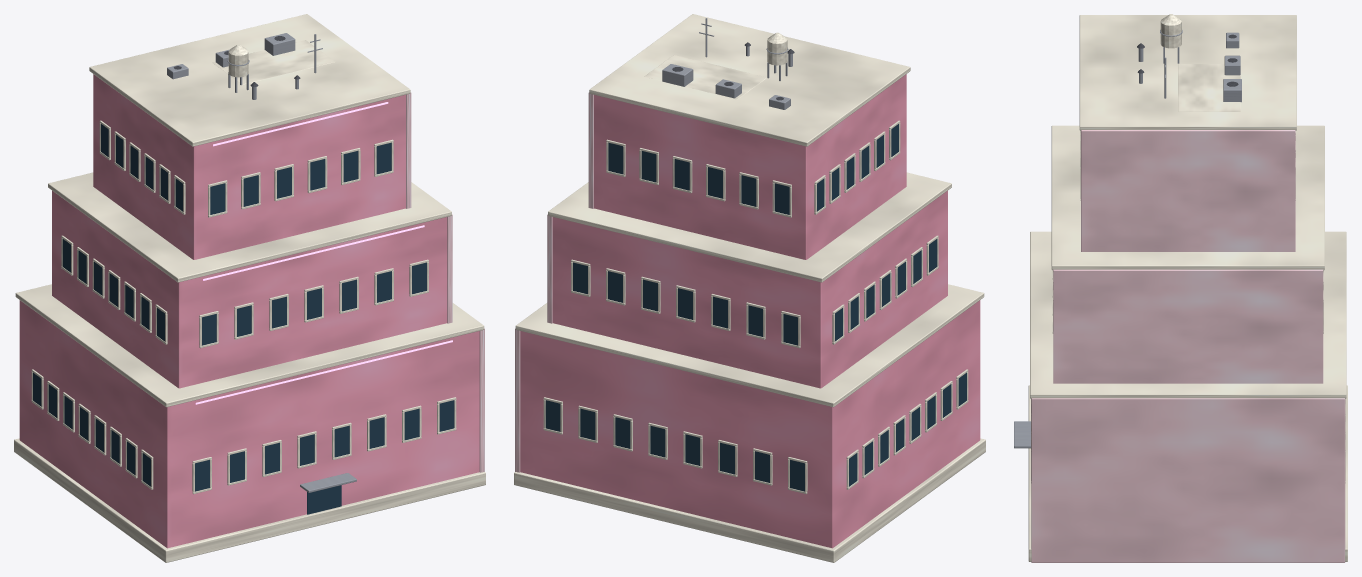
Rendered from bldg_pink_terrace.glb.
3 renders of one model, left to right at view 1: azimuth 30°, elevation 25°; view 2: azimuth 150°, elevation 25°; view 3: azimuth 270°, elevation 25°, orthographic. The views are drawn at different scales.
Parts seen in each view (by area): view 1: bldg_pink_terrace_band_0_wall, bldg_pink_terrace_band_1_wall, bldg_pink_terrace_band_2_wall, bldg_pink_terrace_band_2_cornice, bldg_pink_terrace_band_1_cornice, bldg_pink_terrace_band_0_cornice, bldg_pink_terrace_plinth, bldg_pink_terrace_roof_curb, bldg_pink_terrace_band_0_pilaster, bldg_pink_terrace_entrance, bldg_pink_terrace_band_2_pilaster, bldg_pink_terrace_band_0_neon (+2 smaller); view 2: bldg_pink_terrace_band_0_wall, bldg_pink_terrace_band_1_wall, bldg_pink_terrace_band_2_wall, bldg_pink_terrace_band_2_cornice, bldg_pink_terrace_band_1_cornice, bldg_pink_terrace_band_0_cornice, bldg_pink_terrace_plinth, bldg_pink_terrace_roof_curb, bldg_pink_terrace_band_0_pilaster, bldg_pink_terrace_band_2_pilaster, bldg_pink_terrace_band_1_pilaster; view 3: bldg_pink_terrace_band_0_pilaster, bldg_pink_terrace_band_1_pilaster, bldg_pink_terrace_band_2_pilaster, bldg_pink_terrace_band_2_cornice, bldg_pink_terrace_band_1_cornice, bldg_pink_terrace_band_0_cornice, bldg_pink_terrace_roof_curb, bldg_pink_terrace_plinth, bldg_pink_terrace_tank_a_barrel, bldg_pink_terrace_canopy.
Part boxes in pixels (left/top/right/bottom): bldg_pink_terrace_band_0_wall: left=19, top=300, right=479, bottom=548; bldg_pink_terrace_band_1_wall: left=52, top=190, right=447, bottom=388; bldg_pink_terrace_band_2_wall: left=93, top=74, right=405, bottom=259; bldg_pink_terrace_band_2_cornice: left=89, top=14, right=410, bottom=146; bldg_pink_terrace_band_1_cornice: left=48, top=172, right=451, bottom=282; bldg_pink_terrace_band_0_cornice: left=15, top=284, right=484, bottom=407; bldg_pink_terrace_plinth: left=14, top=438, right=485, bottom=562; bldg_pink_terrace_roof_curb: left=212, top=40, right=335, bottom=84; bldg_pink_terrace_band_0_pilaster: left=479, top=328, right=484, bottom=472; bldg_pink_terrace_entrance: left=307, top=485, right=341, bottom=514; bldg_pink_terrace_band_2_pilaster: left=406, top=92, right=411, bottom=208; bldg_pink_terrace_band_0_neon: left=195, top=340, right=452, bottom=404; bldg_pink_terrace_band_0_wall: left=520, top=300, right=980, bottom=548; bldg_pink_terrace_band_1_wall: left=552, top=190, right=947, bottom=388; bldg_pink_terrace_band_2_wall: left=594, top=74, right=906, bottom=259; bldg_pink_terrace_band_2_cornice: left=589, top=14, right=910, bottom=146; bldg_pink_terrace_band_1_cornice: left=548, top=172, right=951, bottom=282; bldg_pink_terrace_band_0_cornice: left=515, top=284, right=984, bottom=407; bldg_pink_terrace_plinth: left=514, top=438, right=985, bottom=562; bldg_pink_terrace_roof_curb: left=644, top=54, right=767, bottom=99; bldg_pink_terrace_band_0_pilaster: left=515, top=328, right=520, bottom=472; bldg_pink_terrace_band_2_pilaster: left=588, top=92, right=593, bottom=208; bldg_pink_terrace_band_1_pilaster: left=547, top=214, right=552, bottom=323; bldg_pink_terrace_band_0_pilaster: left=1031, top=398, right=1345, bottom=562; bldg_pink_terrace_band_1_pilaster: left=1053, top=269, right=1323, bottom=383; bldg_pink_terrace_band_2_pilaster: left=1081, top=130, right=1295, bottom=251; bldg_pink_terrace_band_2_cornice: left=1079, top=15, right=1296, bottom=130; bldg_pink_terrace_band_1_cornice: left=1051, top=125, right=1324, bottom=270; bldg_pink_terrace_band_0_cornice: left=1030, top=231, right=1346, bottom=398; bldg_pink_terrace_roof_curb: left=1178, top=64, right=1240, bottom=111; bldg_pink_terrace_plinth: left=1028, top=385, right=1347, bottom=561; bldg_pink_terrace_tank_a_barrel: left=1160, top=22, right=1181, bottom=48; bldg_pink_terrace_canopy: left=1014, top=421, right=1030, bottom=448.
Size of the model in its own units: 22.51 by 29.17 by 19.35.
Materials: 7 (7 with a texture image).
